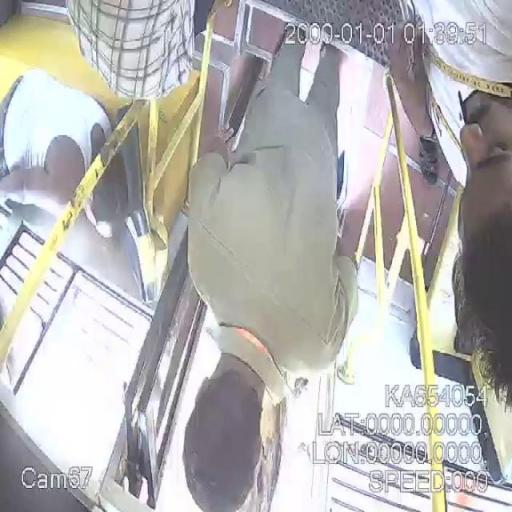persona: (179, 4, 361, 510), (410, 0, 512, 486)
